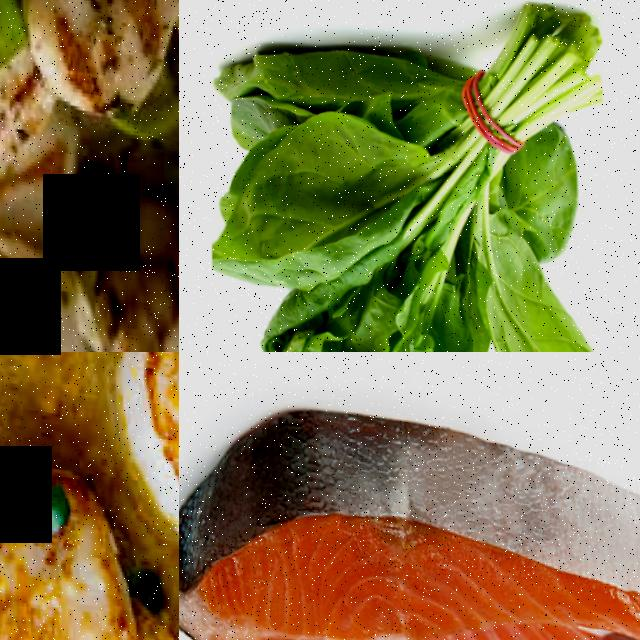salmon: (179, 371, 640, 640)
spinach: (187, 90, 445, 303), (0, 451, 153, 640), (92, 352, 179, 545), (488, 145, 584, 258), (478, 287, 609, 352)
